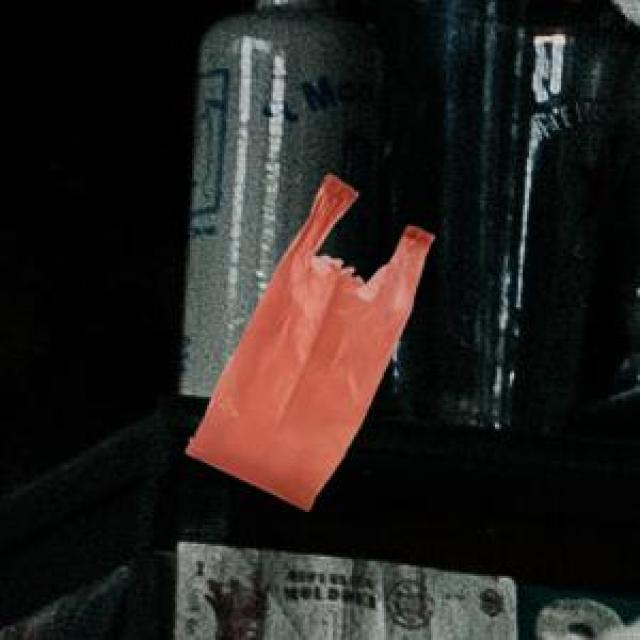plastic: (212, 164, 497, 527)
